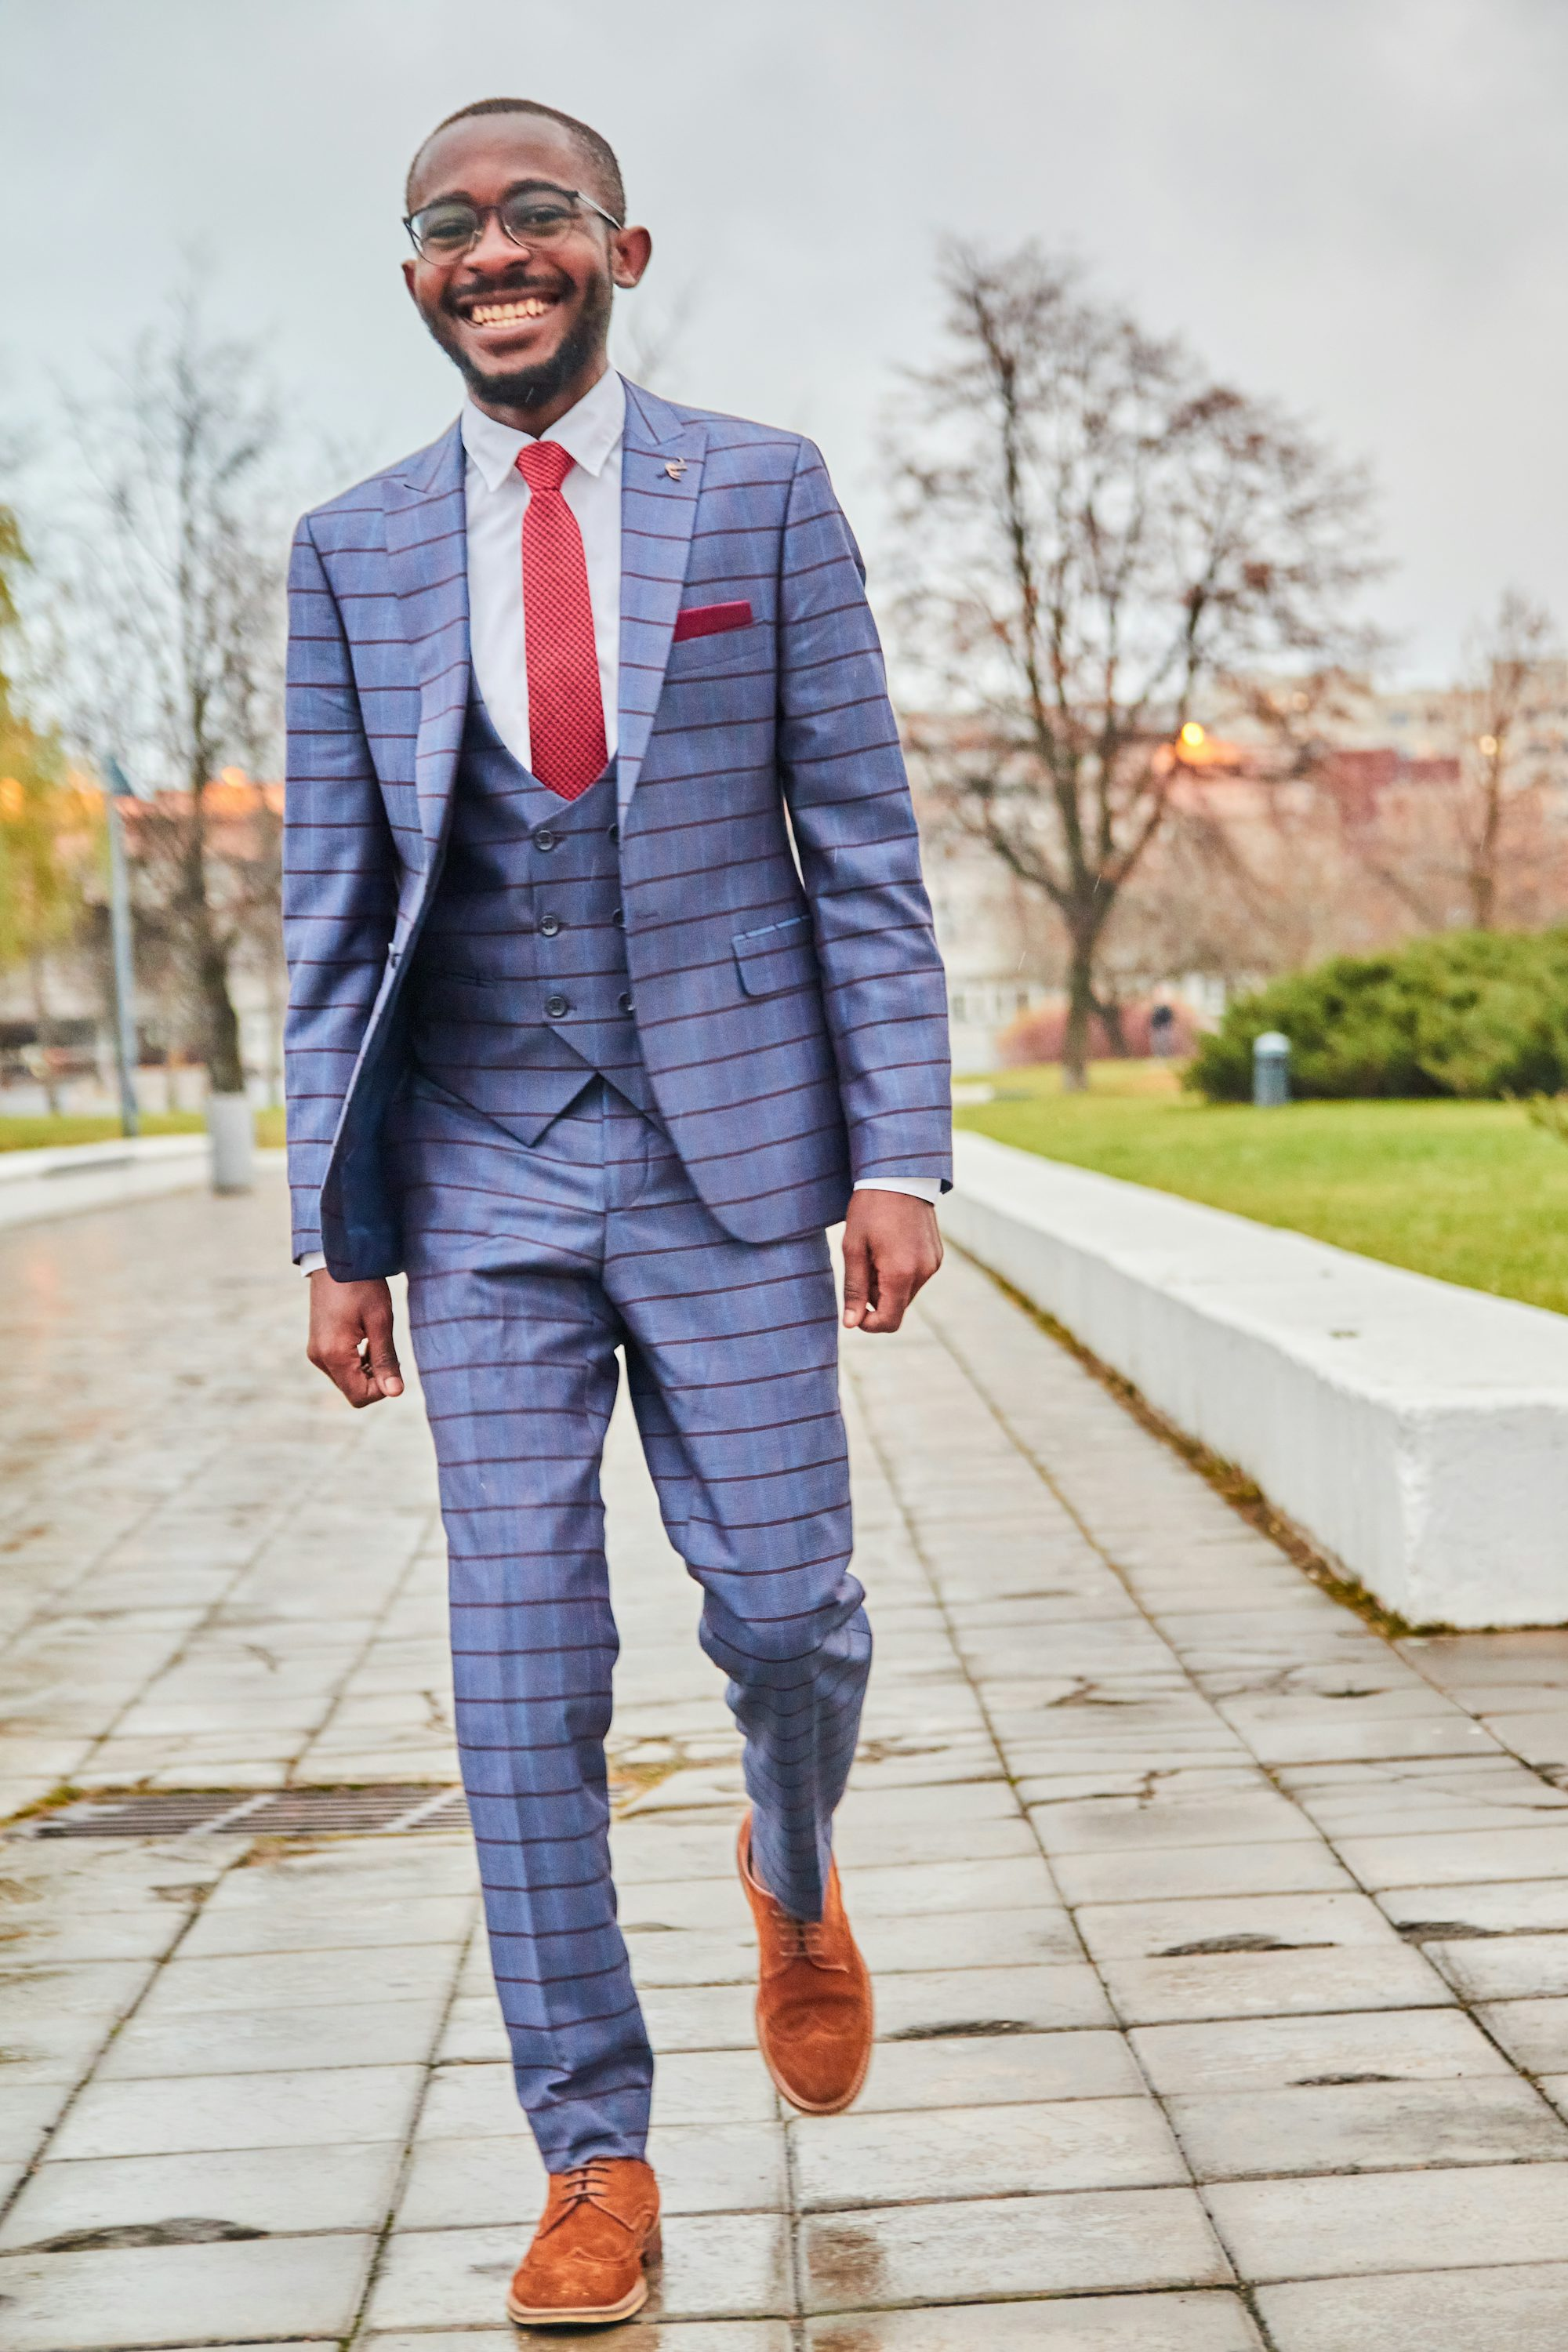person: (223, 68, 1003, 2347)
